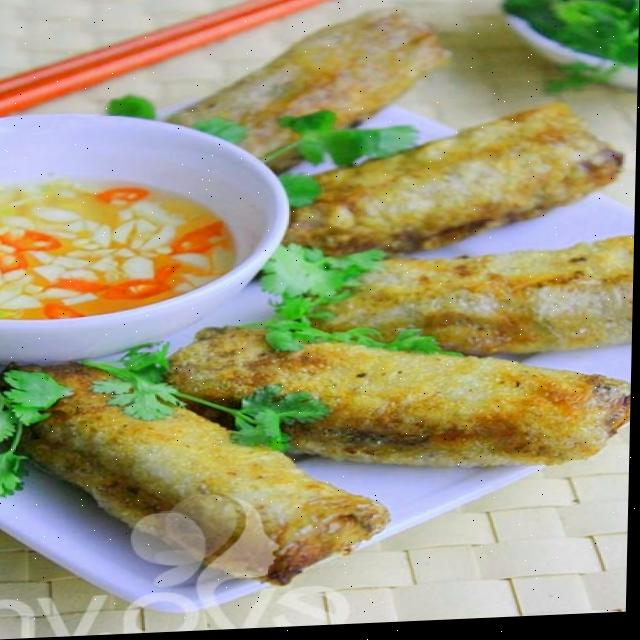炸货点心: (27, 4, 631, 596)
